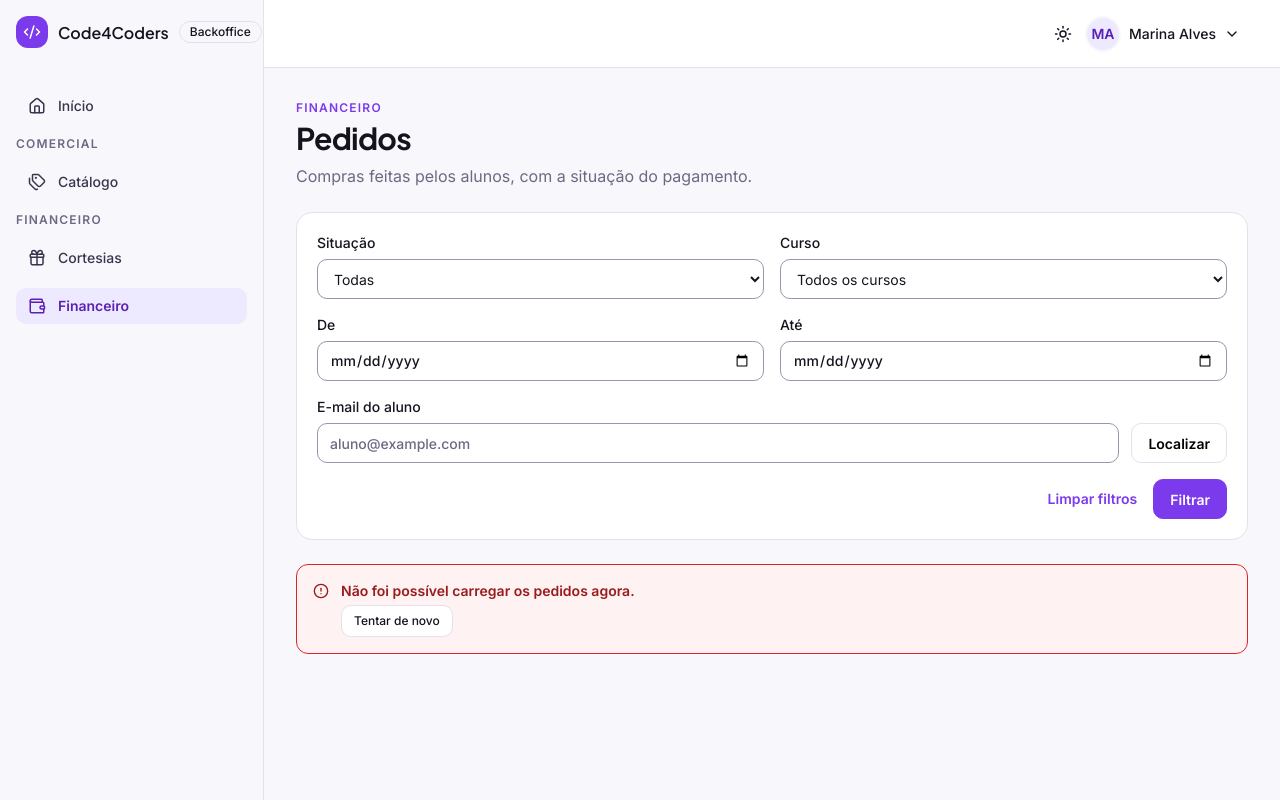
Finance orders › shows unavailable and allows retry without a partial list
Expected: the text "Não foi possível carregar os pedidos agora." is shown, x1=341 y1=581 x2=635 y2=601
Expected: the text "Ana Souza" is not shown
Step 1. Click the button "Tentar de novo" → (397, 621), box x1=341 y1=605 x2=453 y2=637
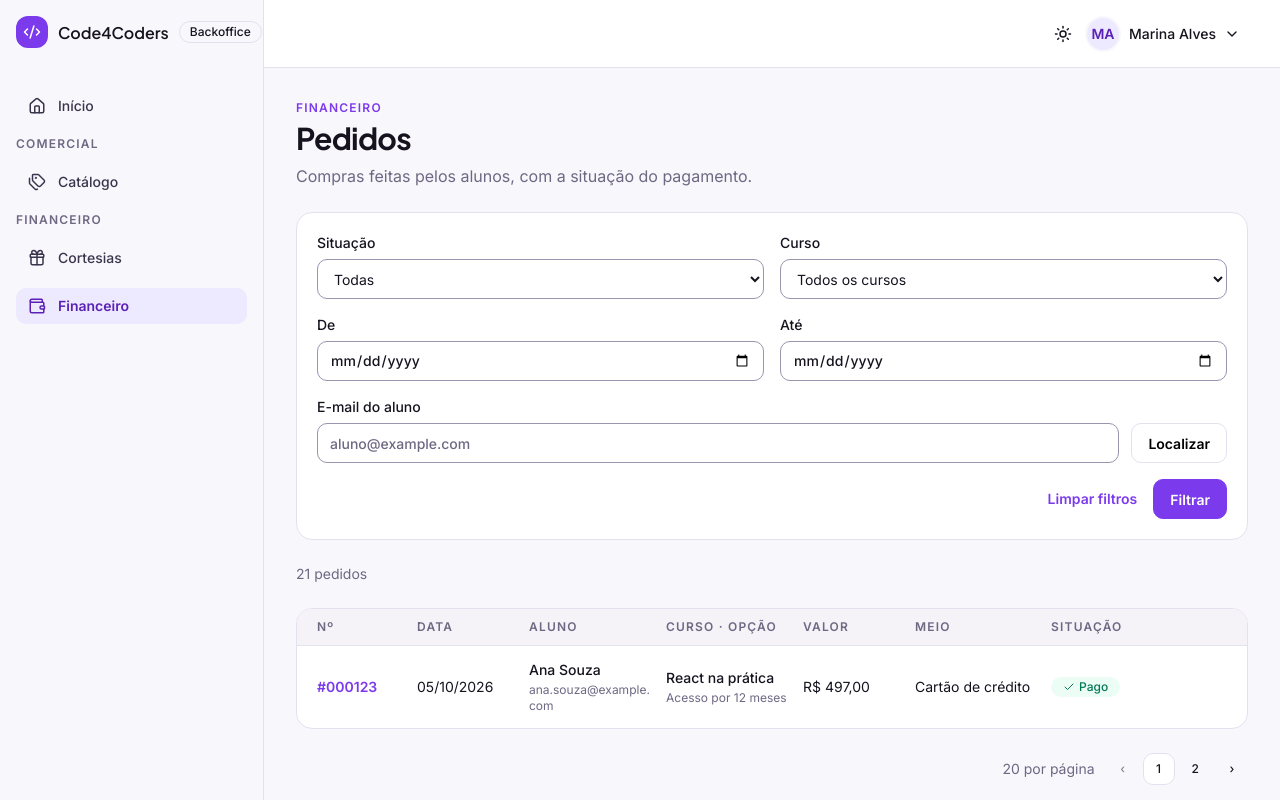
Result: the text "Ana Souza" is shown at x1=529 y1=661 x2=601 y2=678
